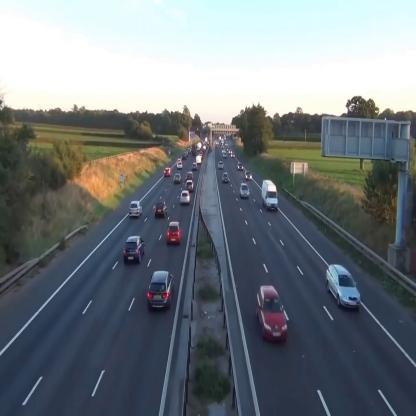car: (255, 284, 287, 342), (326, 264, 360, 311), (146, 270, 175, 314), (123, 236, 145, 263), (167, 222, 182, 244), (129, 201, 143, 218), (155, 202, 167, 217), (180, 190, 190, 205), (240, 183, 249, 198), (186, 180, 194, 192), (173, 173, 182, 183), (245, 170, 252, 181), (164, 167, 172, 176), (186, 172, 192, 181), (223, 172, 228, 182), (218, 161, 224, 169), (237, 162, 243, 170), (178, 162, 182, 169)
lorry: (262, 180, 278, 212)
